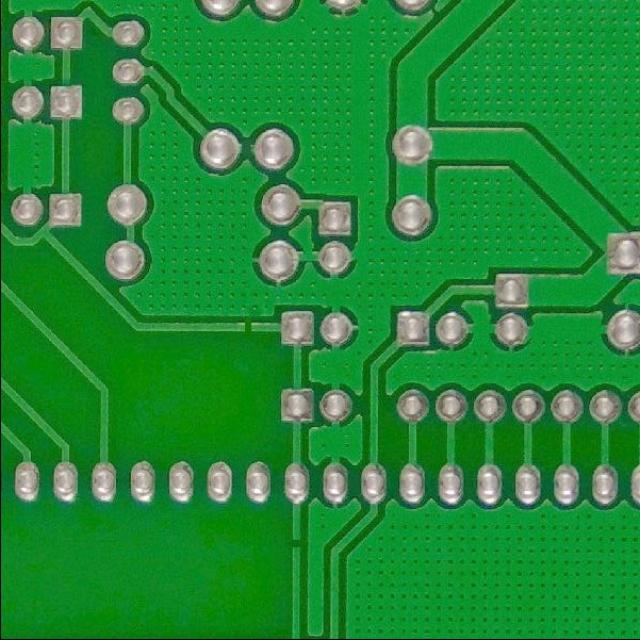open_circuit: (236, 320, 256, 338), (286, 534, 302, 552)
